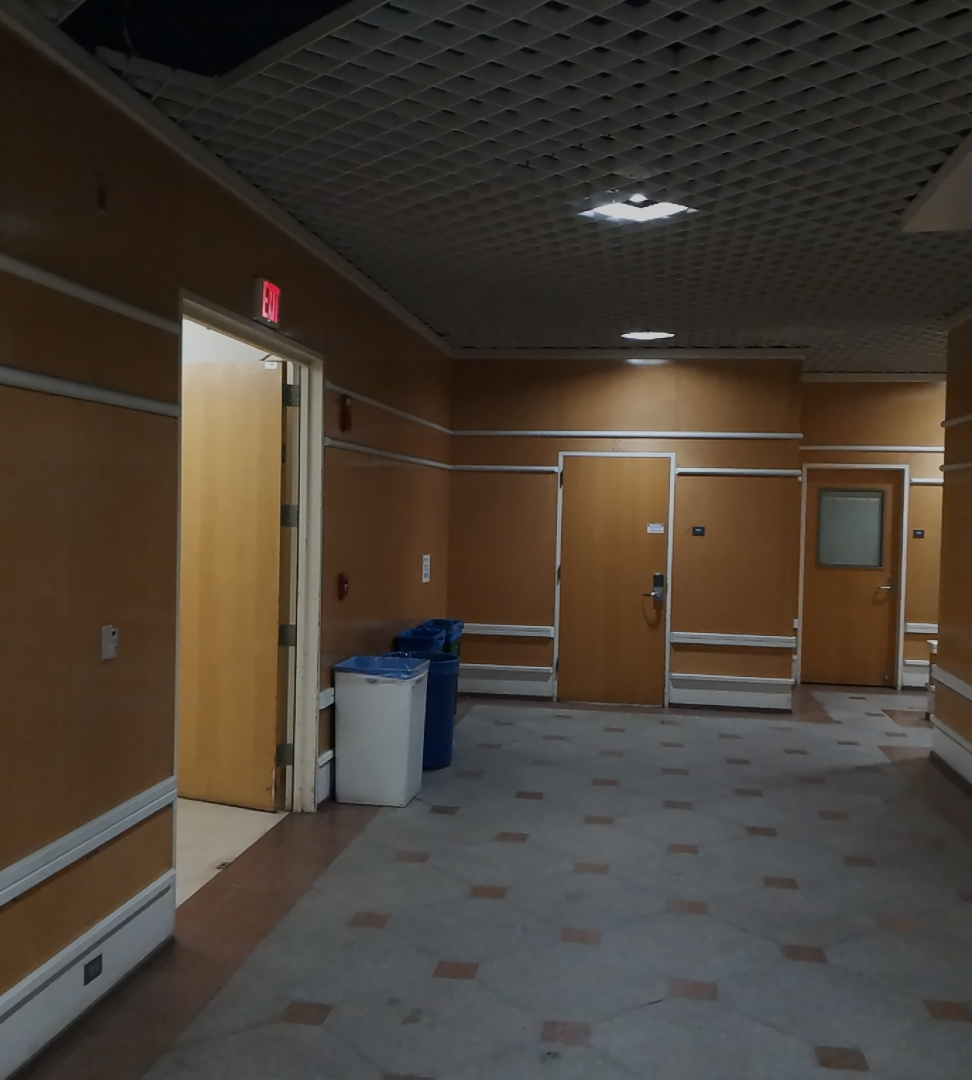emergency_exit: (252, 275, 284, 328)
